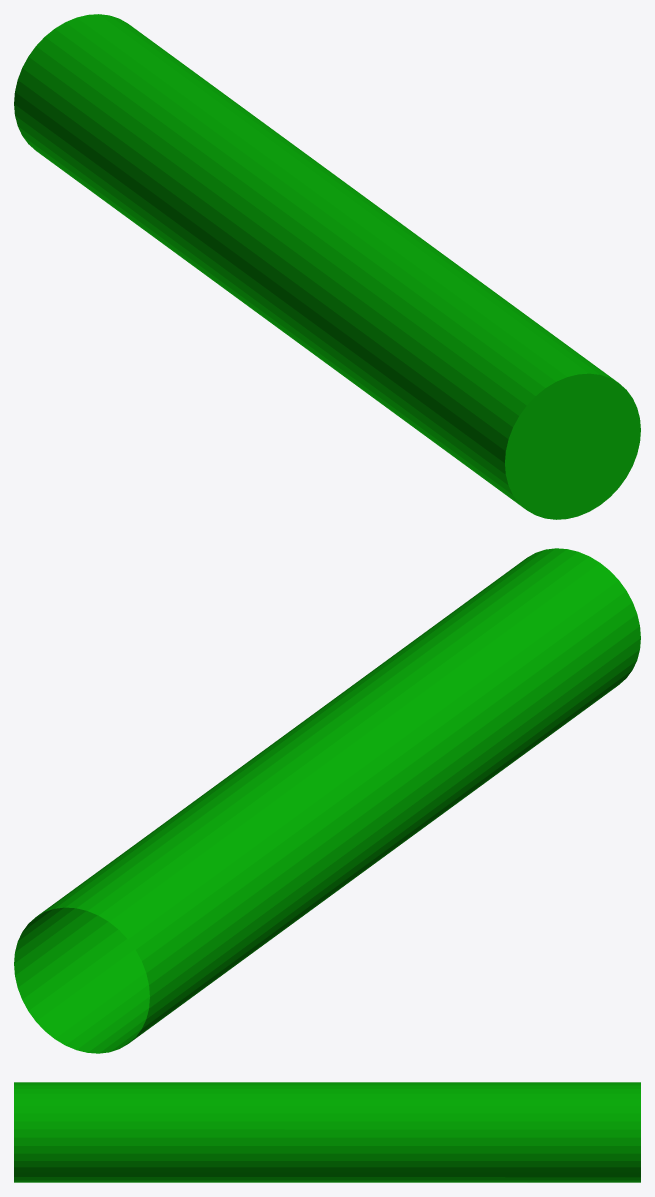
File: zatana_terra_Z_parts_vis_11.dae
3 views of the same model, one above another, from view 1: azimuth 30°, elevation 25°; view 2: azimuth 150°, elevation 25°; view 3: azimuth 270°, elevation 25° (orthographic). The views are drawn at different scales.
Visible parts, largest first — view 1: Node_000002318374C350; view 2: Node_000002318374C350; view 3: Node_000002318374C350.
Boxes of the visible parts, x1,y1,x2,y2 form: Node_000002318374C350: (14,14,640,519); Node_000002318374C350: (14,548,640,1053); Node_000002318374C350: (14,1082,640,1182).
Size of the model in its own units: 0.0016 by 0.00159 by 0.01.
